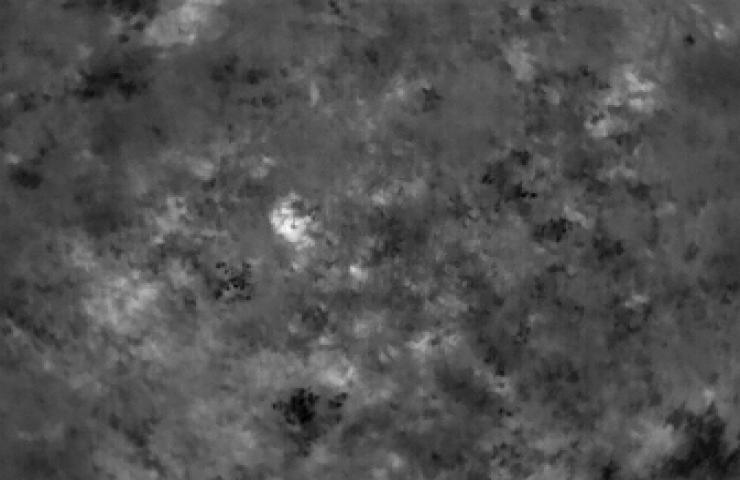landmines: (273, 198, 317, 243)
